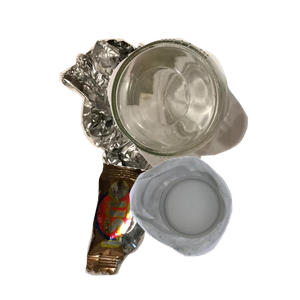glass: (105, 36, 300, 201)
metal: (57, 36, 241, 216)
plastic: (127, 154, 300, 300)
trash: (83, 160, 233, 300)
